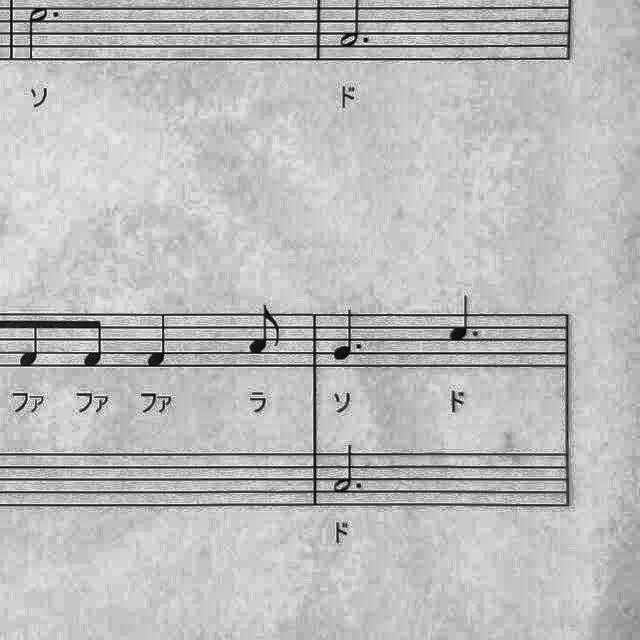Eighth-note: (243, 306, 285, 358), (76, 311, 110, 373), (14, 314, 46, 374)
Half-dot: (22, 2, 66, 68), (324, 434, 366, 501), (336, 0, 376, 50)
Quarter-dot: (442, 293, 488, 347), (330, 309, 370, 367)
Quarter-note: (141, 306, 183, 374)
